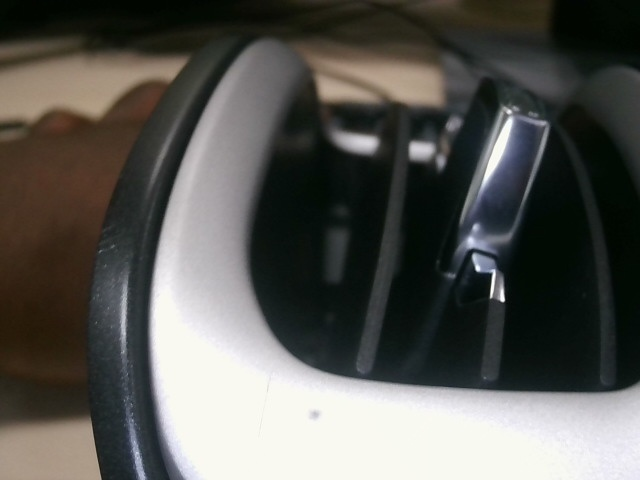NG: (252, 366, 288, 439), (97, 223, 124, 268)
